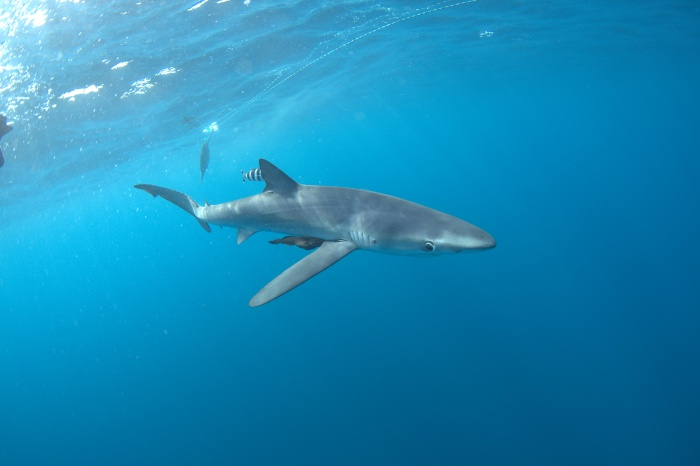Azul: (128, 136, 508, 317)
